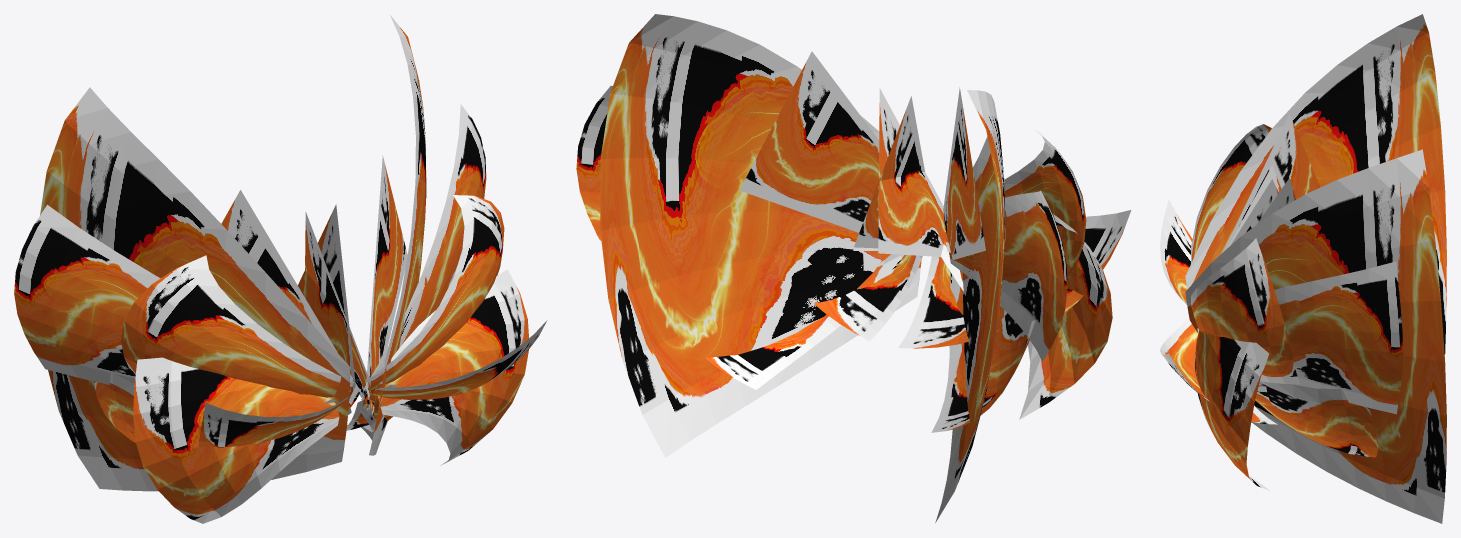
Rendered from fx_wing_mesh004.FBX.
The picture shows the model from 3 angles, left to right: view 1: azimuth 30°, elevation 25°; view 2: azimuth 150°, elevation 25°; view 3: azimuth 270°, elevation 25°; orthographic projection. The views are drawn at different scales.
Visible parts, largest first — view 1: Plane_L, Plane_R; view 2: Plane_R, Plane_L; view 3: Plane_R, Plane_L.
Part boxes in pixels (<box>): Plane_L: <box>14,87,361,523</box>; Plane_R: <box>305,15,547,465</box>; Plane_R: <box>576,14,924,457</box>; Plane_L: <box>878,87,1131,522</box>; Plane_R: <box>1160,149,1446,523</box>; Plane_L: <box>1160,14,1446,356</box>.
Size of the model in its own units: 262 by 220 by 149.
